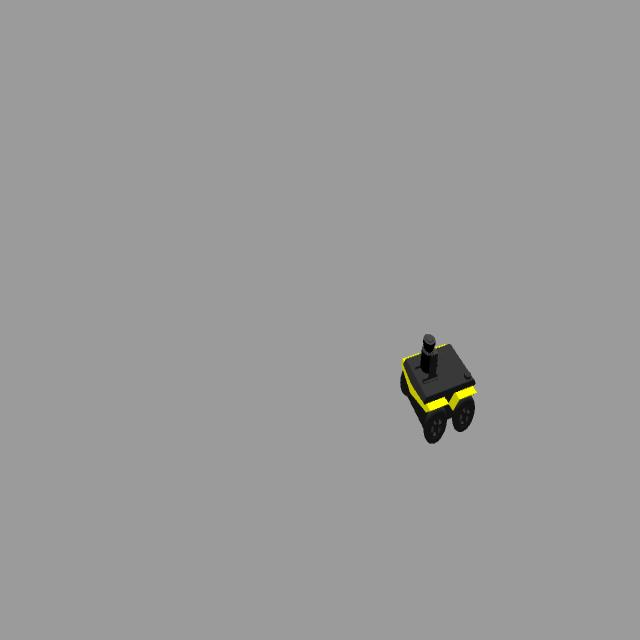jackal: (398, 334, 478, 446)
